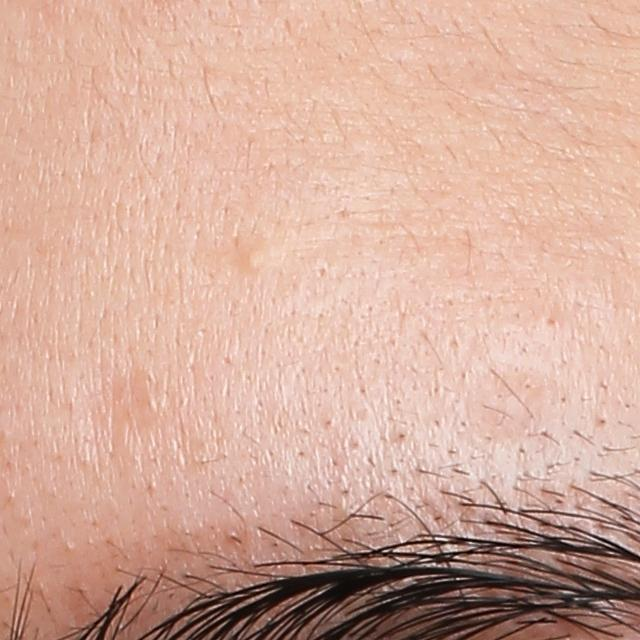comedo: (237, 241, 276, 275), (314, 259, 329, 277), (541, 313, 557, 329)
